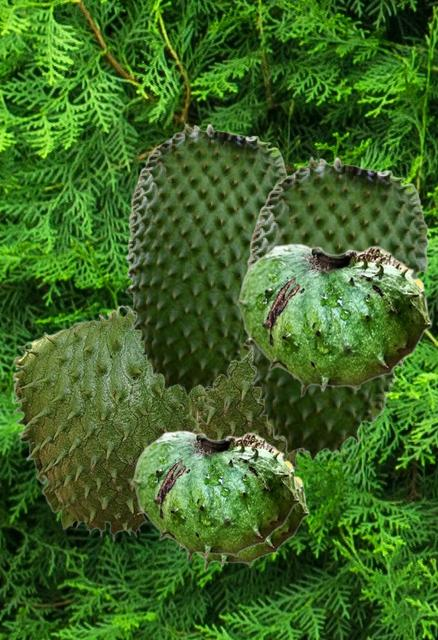guyabano: (243, 156, 428, 461), (12, 304, 220, 541), (125, 123, 287, 396), (236, 243, 431, 396), (131, 430, 299, 562), (195, 354, 308, 472), (178, 469, 308, 570)
